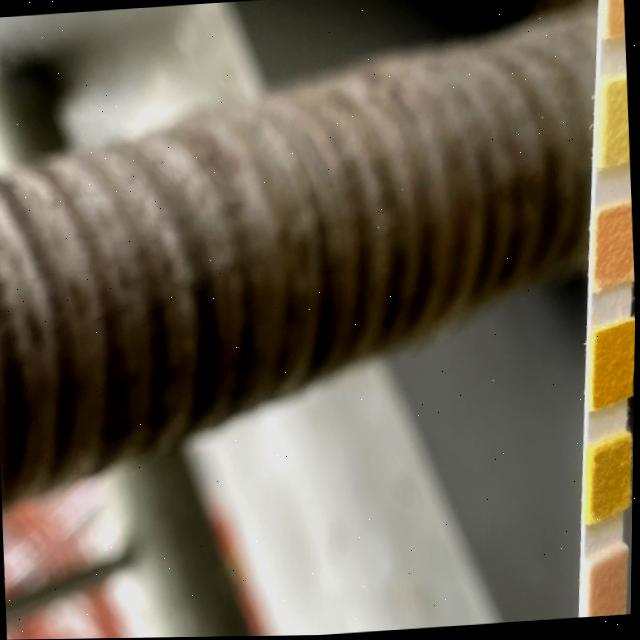Blood: (596, 337, 633, 396)
Ketone: (591, 572, 627, 614)
Protein: (605, 87, 631, 155)
SpGravity: (592, 455, 633, 508)
Urobilinogen: (612, 0, 625, 31)
pH: (598, 215, 636, 278)
